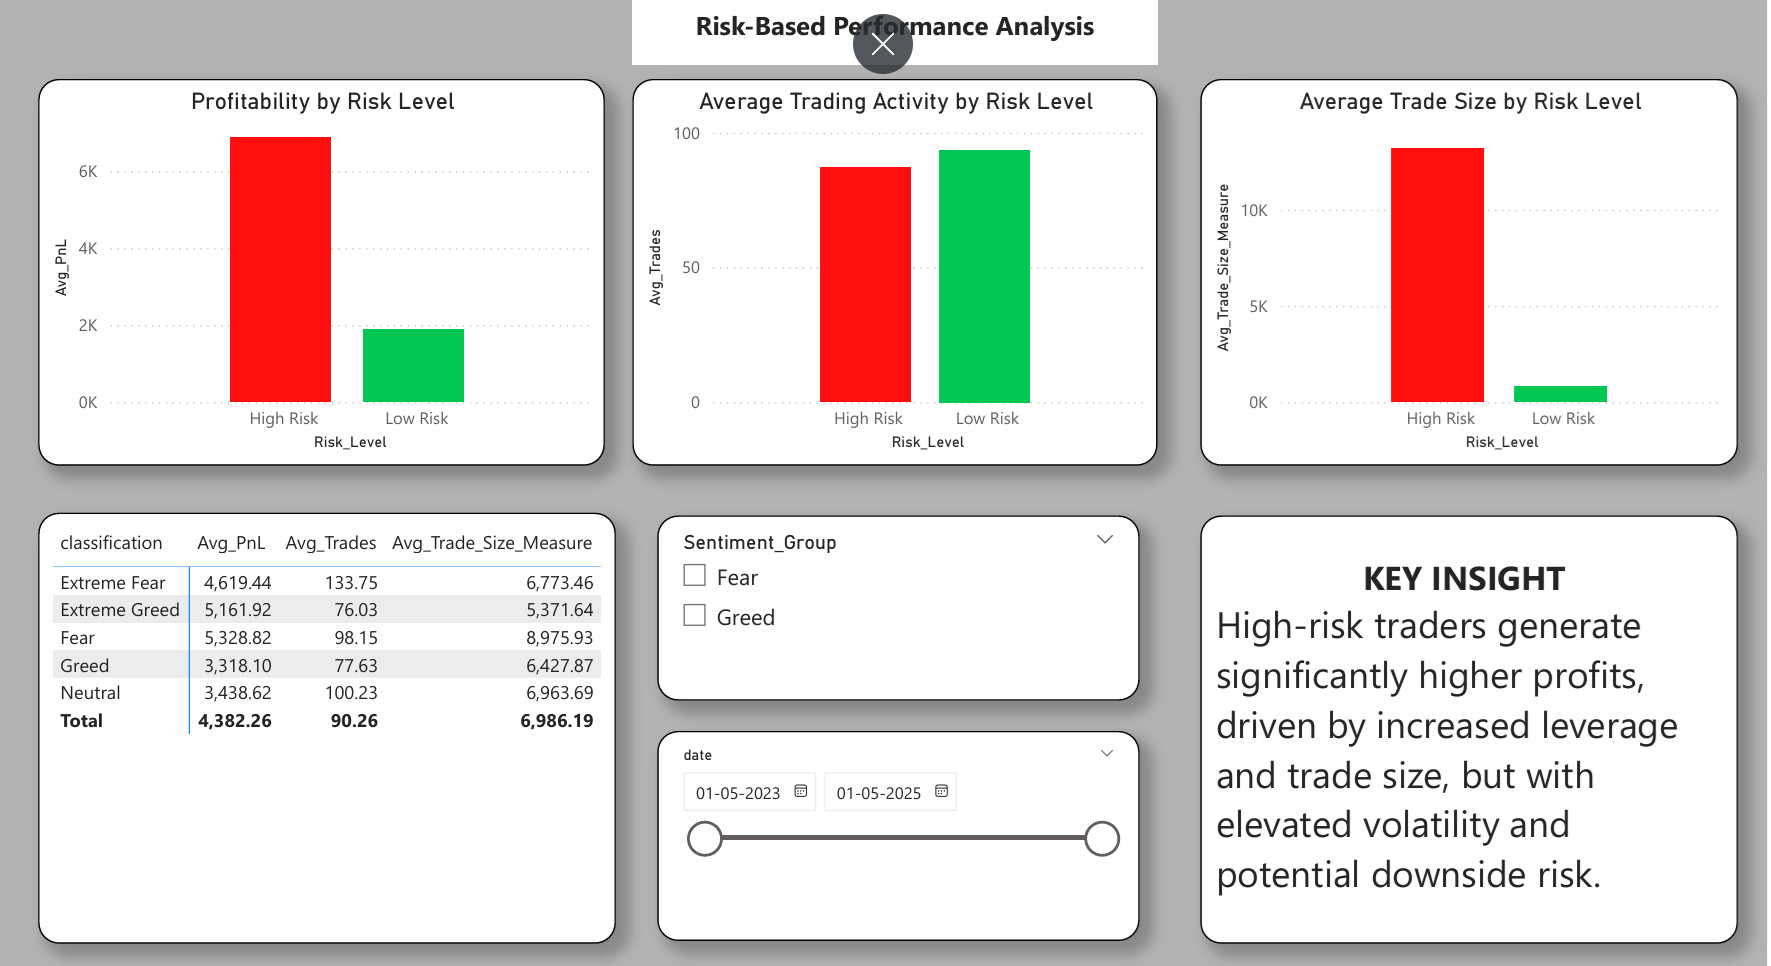

What the dashboard file says about the page in this screenshot:
{"tool":"powerbi","page":{"name":"Risk And Segmentation Analysis","canvas":[1280,720],"ordinal":2},"visuals":[{"type":"clusteredColumnChart","title":"Profitability by Risk Level","fields":{"Category":["fact_trades.Risk_Level"],"Y":["fact_trades.Avg_PnL"]},"box":[28.6,57.1,410,280],"z":0},{"type":"clusteredColumnChart","title":"Average Trading Activity by Risk Level","fields":{"Category":["fact_trades.Risk_Level"],"Y":["fact_trades.Avg_Trades"]},"box":[458.6,57.1,380,280],"z":1000},{"type":"clusteredColumnChart","title":"Average Trade Size by Risk Level","fields":{"Category":["fact_trades.Risk_Level"],"Y":["fact_trades.Avg_Trade_Size_Measure"]},"box":[870,57.1,388.6,280],"z":2000},{"type":"pivotTable","fields":{"Rows":["fact_trades.classification"],"Values":["fact_trades.Avg_PnL","fact_trades.Avg_Trades","fact_trades.Avg_Trade_Size_Measure"]},"box":[28.6,371.4,418.6,311.4],"z":3000},{"type":"textbox","box":[870,372.9,388.6,310],"z":4000},{"type":"slicer","fields":{"Values":["fact_trades.Sentiment_Group"]},"box":[477.1,372.9,348.6,134.3],"z":5000},{"type":"slicer","fields":{"Values":["fact_trades.date"]},"box":[477.1,528.6,348.6,152.9],"z":6000},{"type":"textbox","box":[458.6,0,380,47.1],"z":7000}]}

Visuals, with their boxes in screenshot pixels (x1, y1, x2, y2):
"Profitability by Risk Level" clusteredColumnChart: Rect(44, 78, 605, 461)
"Average Trading Activity by Risk Level" clusteredColumnChart: Rect(632, 78, 1152, 461)
"Average Trade Size by Risk Level" clusteredColumnChart: Rect(1195, 78, 1727, 461)
pivotTable - fact_trades.classification x fact_trades.Avg_PnL: Rect(44, 508, 617, 935)
textbox: Rect(1195, 510, 1727, 935)
slicer - fact_trades.Sentiment_Group: Rect(658, 510, 1135, 694)
slicer - fact_trades.date: Rect(658, 724, 1135, 933)
textbox: Rect(632, 0, 1152, 64)
